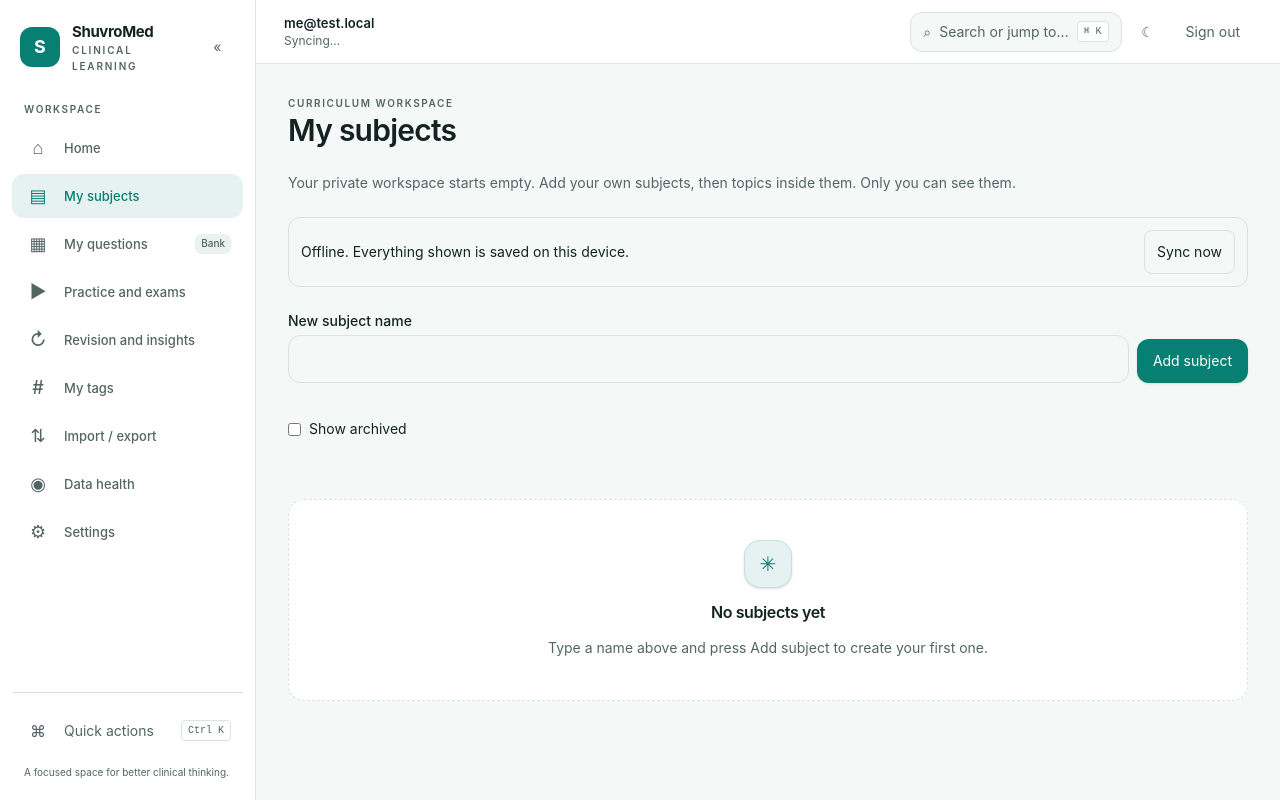
Test case: My subjects with the on-device store › works offline, then syncs when the connection returns
This screenshot has width=1280, height=800.
Type "Anatomy" into the field labelled "New subject name" at (708, 359), box 288,335 -> 1129,383
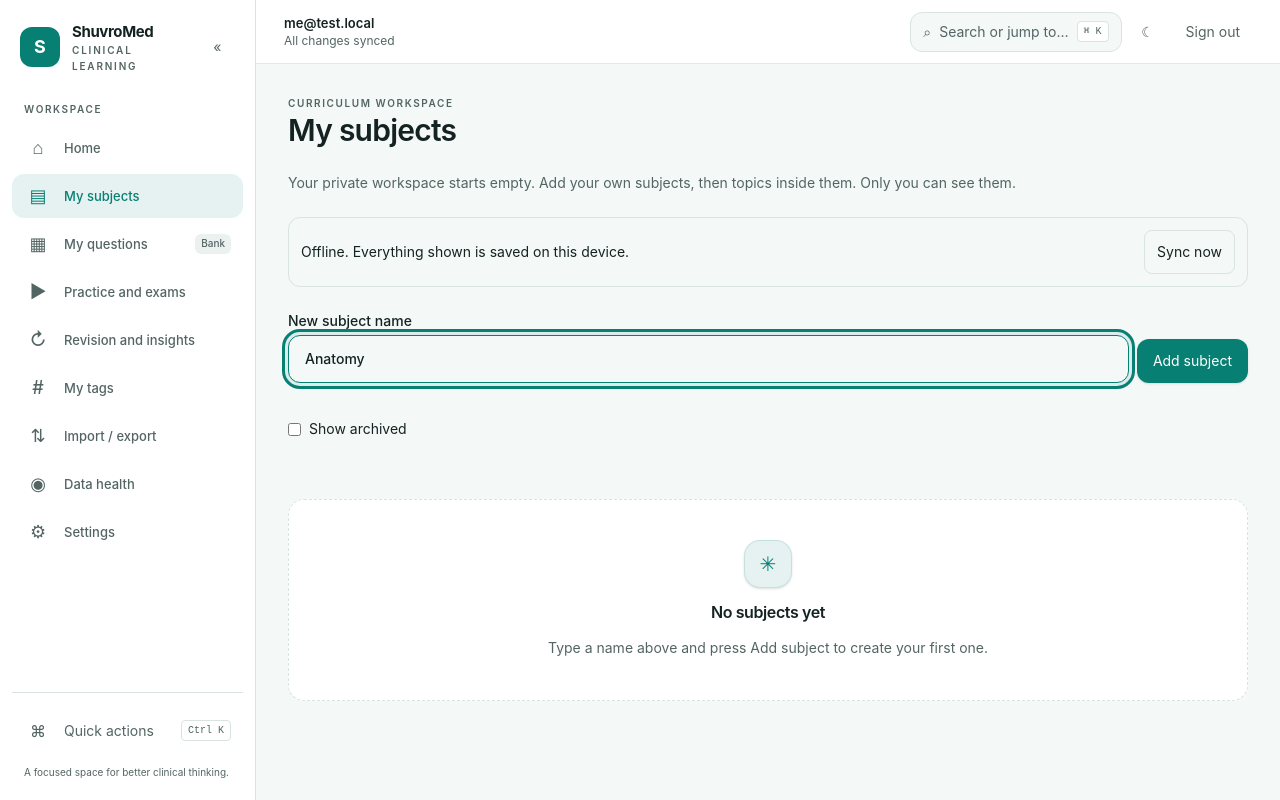
Click the button "Add subject" at (1192, 361), box 1137,339 -> 1248,383
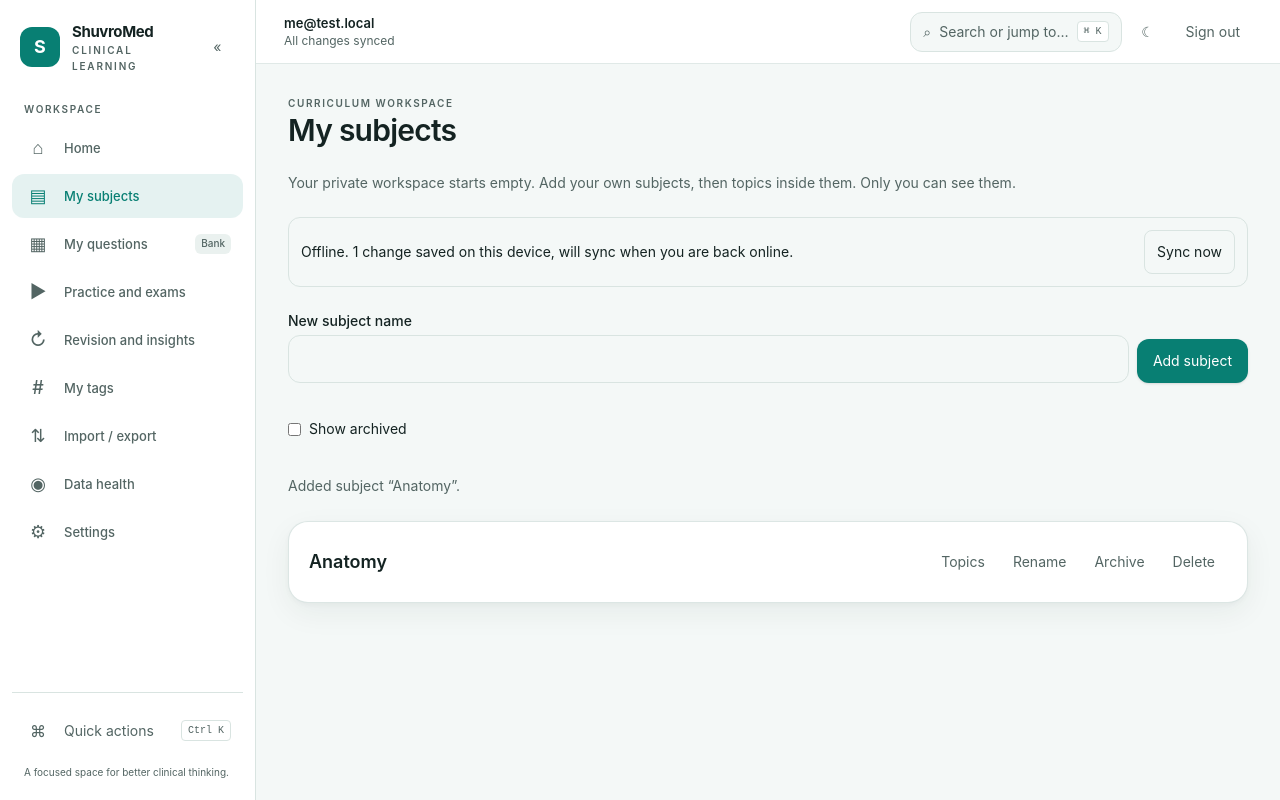
Result: the heading "Anatomy" is shown at 309,548 -> 387,576
Result: the element named "Sync status" shows "Offline. 1 change saved on this device" at 301,243 -> 793,260
Click the button "Sync now" at (1190, 252), box 1144,230 -> 1235,274
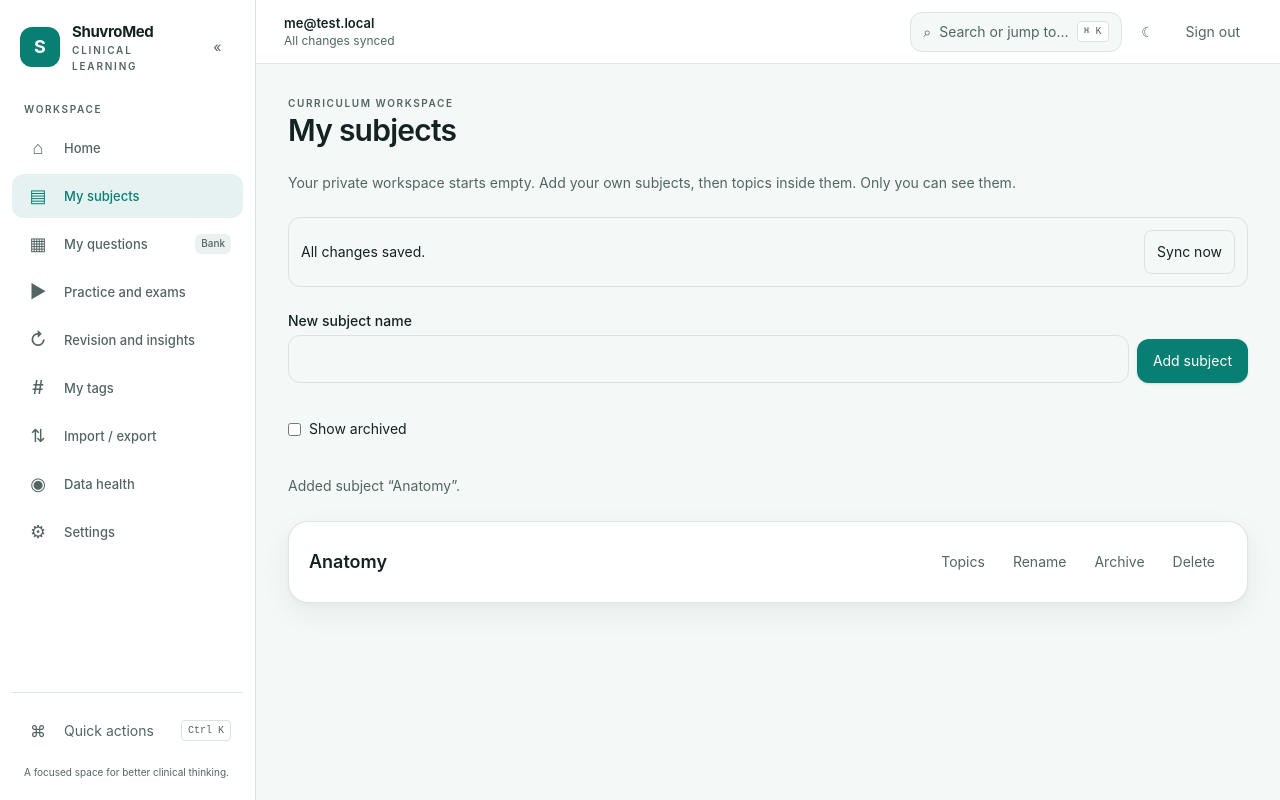
Result: the element named "Sync status" shows "All changes saved" at 301,243 -> 425,260
